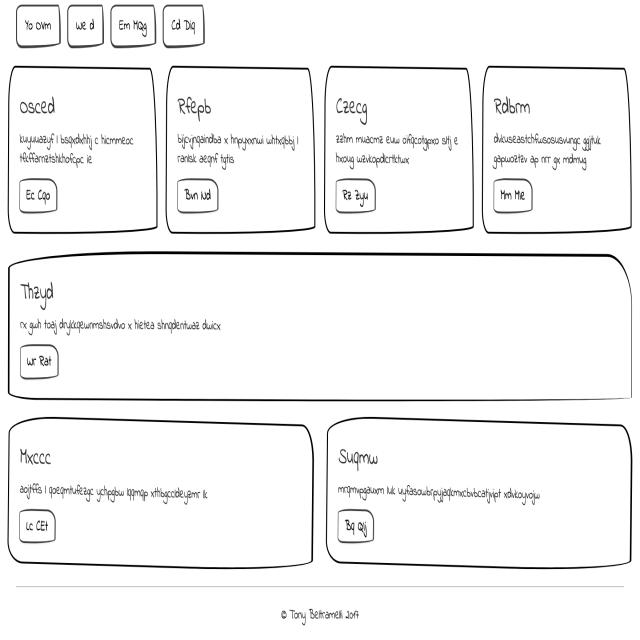Button: (492, 175, 540, 225), (333, 178, 379, 225), (18, 341, 66, 386), (19, 508, 64, 553), (177, 172, 223, 215), (335, 503, 379, 546), (19, 177, 60, 216)
Card: (3, 255, 640, 411), (5, 418, 317, 578), (325, 417, 634, 575), (6, 59, 162, 240), (481, 61, 638, 239), (165, 68, 319, 242), (325, 65, 476, 236)
Footer: (0, 584, 640, 639)
Heading 6: (494, 87, 546, 123), (174, 81, 215, 123), (334, 86, 376, 126), (15, 87, 63, 121), (15, 276, 60, 312), (17, 438, 57, 478), (337, 441, 383, 474)
Navigation Bar: (12, 2, 212, 59)
Paragraph: (16, 476, 219, 506), (13, 310, 224, 338), (334, 126, 461, 172), (170, 126, 302, 168), (490, 125, 606, 172), (16, 128, 138, 172)
